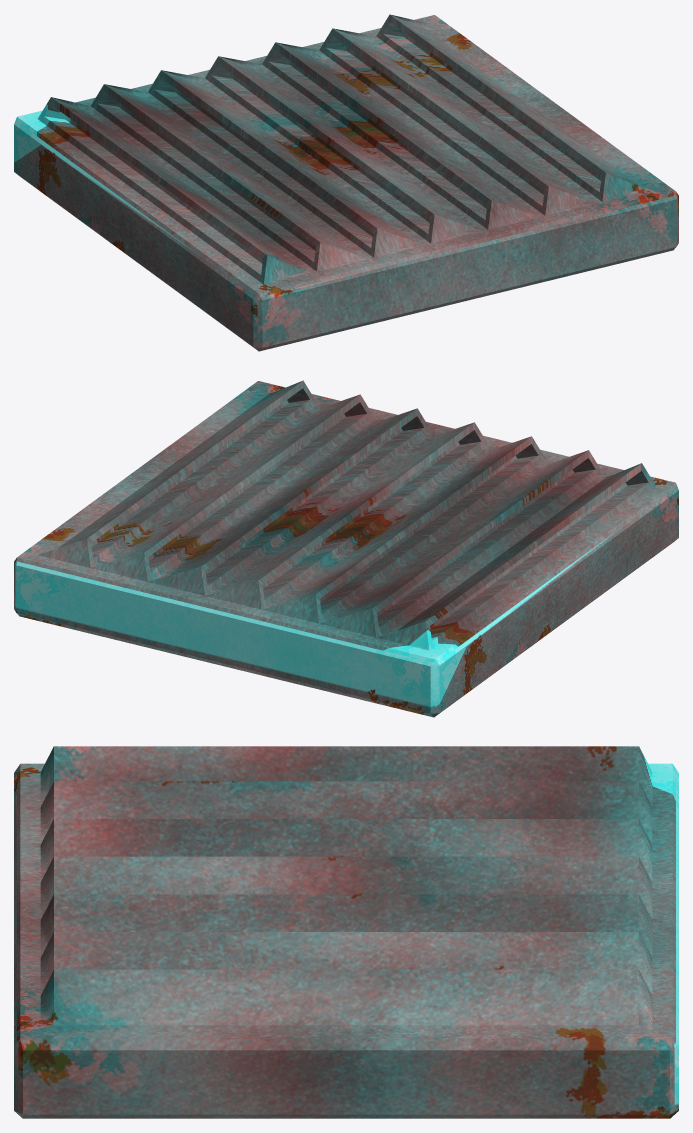
Rendered from Vent.FBX.
3 renders of one model, top to bottom at view 1: azimuth 30°, elevation 25°; view 2: azimuth 150°, elevation 25°; view 3: azimuth 270°, elevation 25°, orthographic. The views are drawn at different scales.
Parts seen in each view (by area): view 1: Box001; view 2: Box001; view 3: Box001.
Boxes of the visible parts, x1=… form: Box001: x1=14, y1=14, x2=678, y2=351; Box001: x1=14, y1=380, x2=678, y2=717; Box001: x1=14, y1=746, x2=678, y2=1118.
Bounding box in the file's own units: 29.53 × 5.5 × 29.53.
